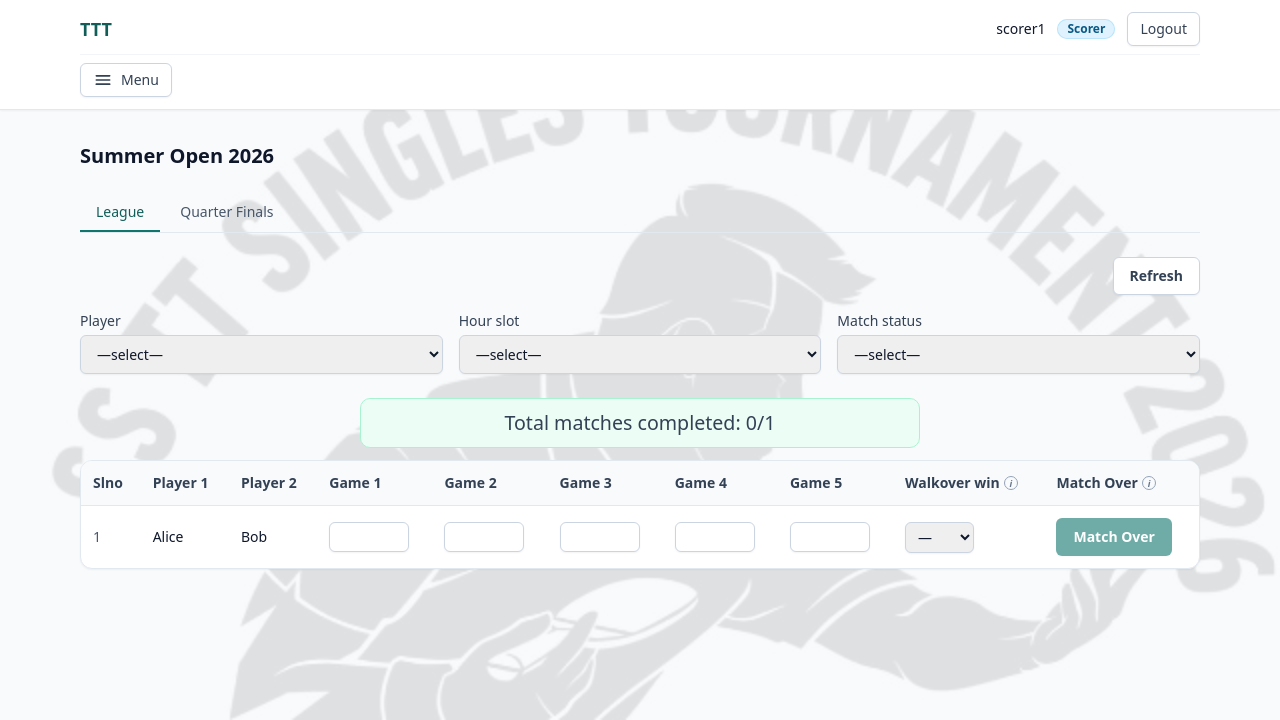
Test: Complete match › marks a match as completed when walkover is selected
Check: the field named "game1 for match 1" is shown, box [329,522,409,552]
Select "Alice" in the dropdown named "Walkover win for match 1" at (940, 538), box [905,522,974,553]
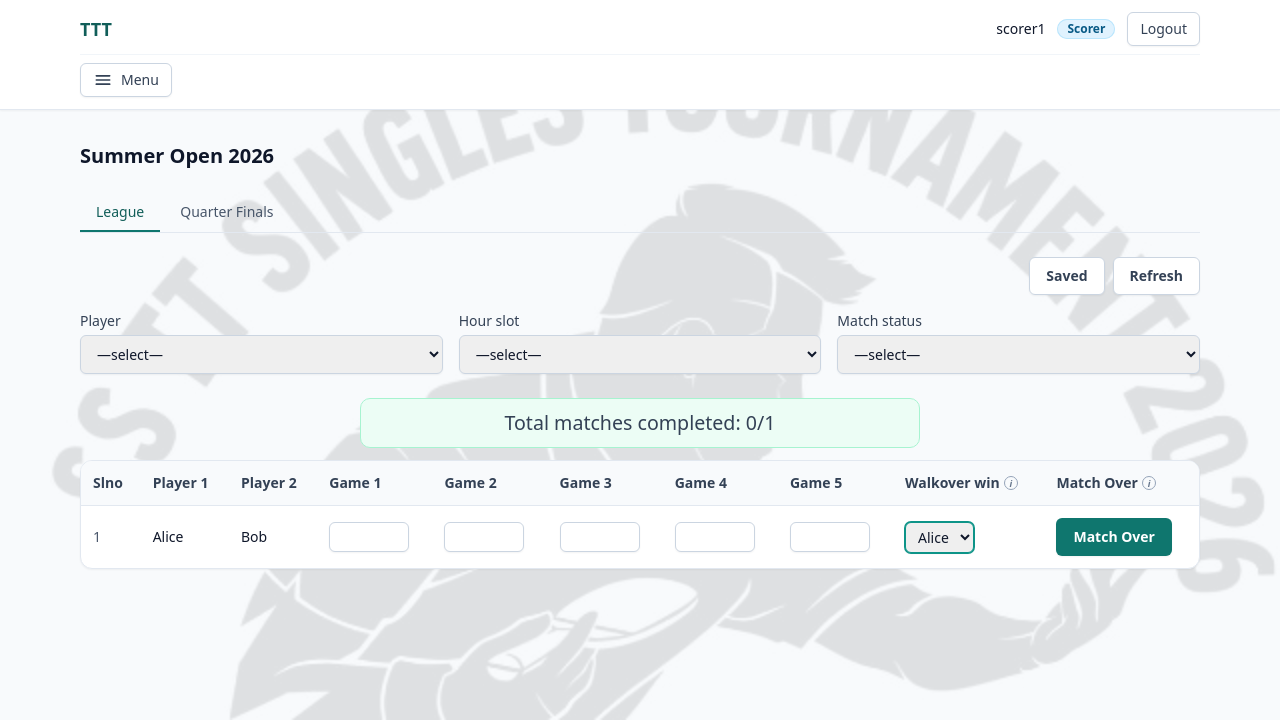
Click the button "Match Over".
click(1114, 538)  # box [1056,518,1172,556]
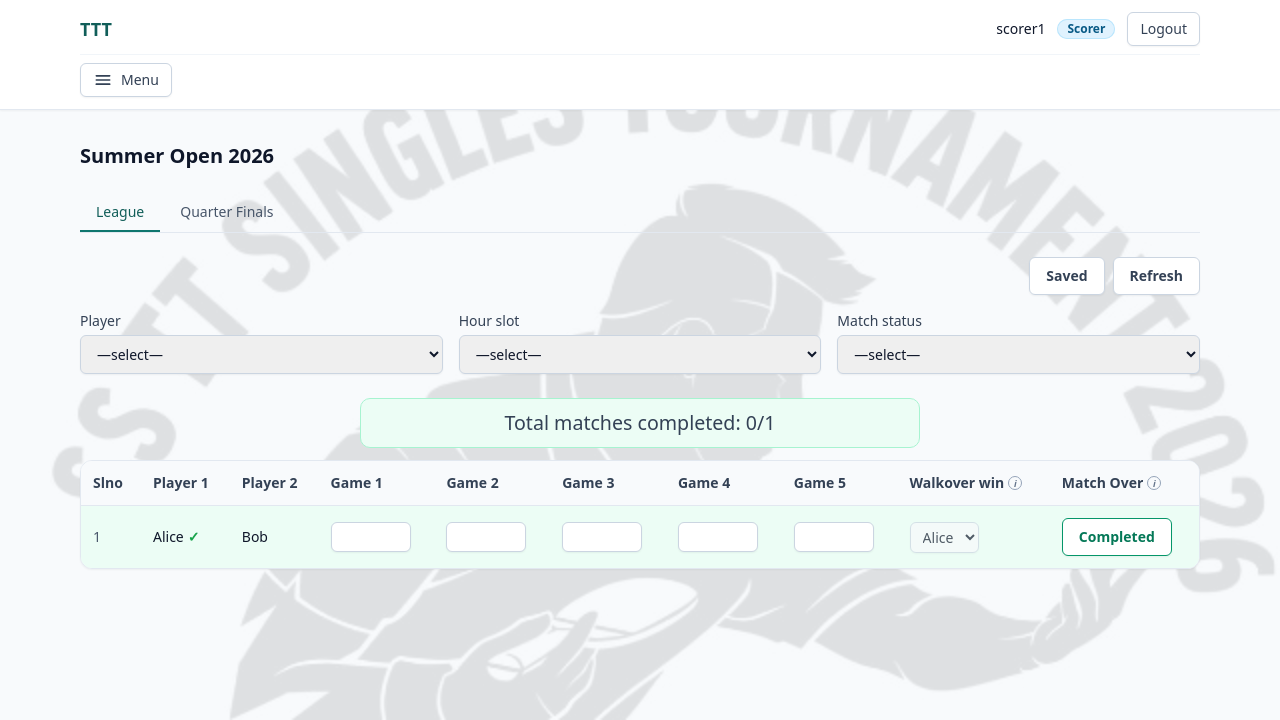
Check: the button "Completed" is disabled, box [1062,518,1172,556]
